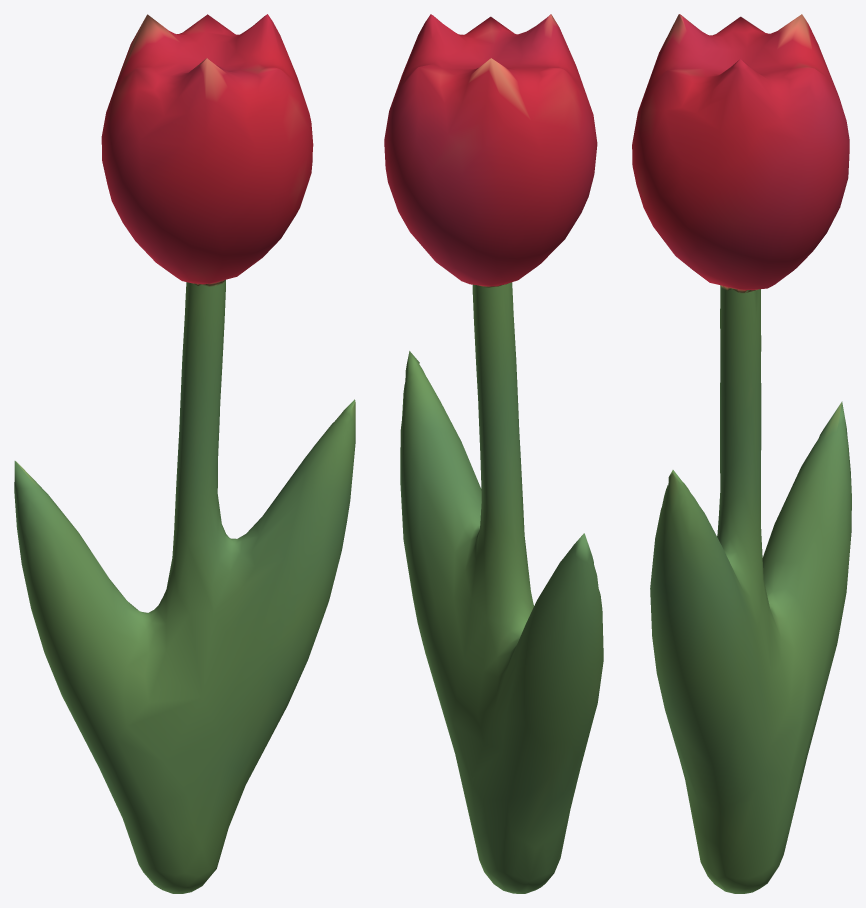
The model's file is flower1.glb.
3 renders of one model, left to right at view 1: azimuth 30°, elevation 25°; view 2: azimuth 150°, elevation 25°; view 3: azimuth 270°, elevation 25°, orthographic. The views are drawn at different scales.
Visible parts, largest first — view 1: body; view 2: body; view 3: body.
Boxes of the visible parts, box(x1,y1,x2,y2) form: body: box(14, 14, 355, 893); body: box(384, 14, 603, 893); body: box(632, 14, 851, 893).
Size of the model in its own units: 0.1834 by 0.5714 by 0.1301.
